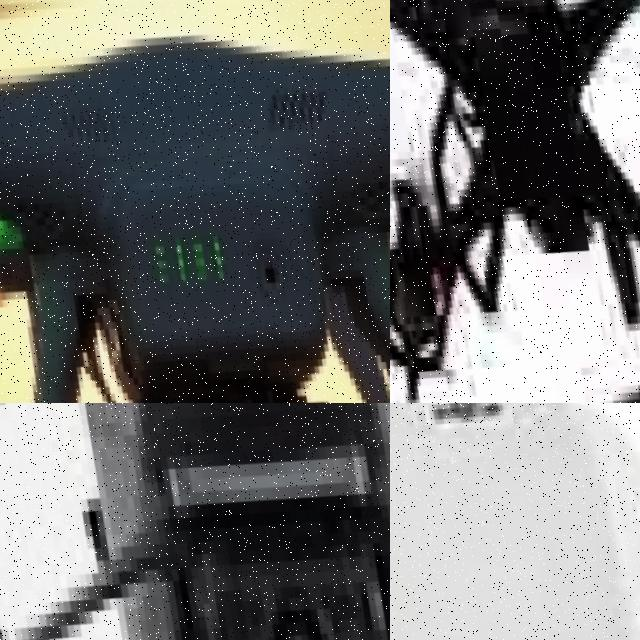0: (390, 0, 640, 403)
drone: (0, 0, 390, 403), (0, 403, 390, 640), (390, 403, 640, 640)
